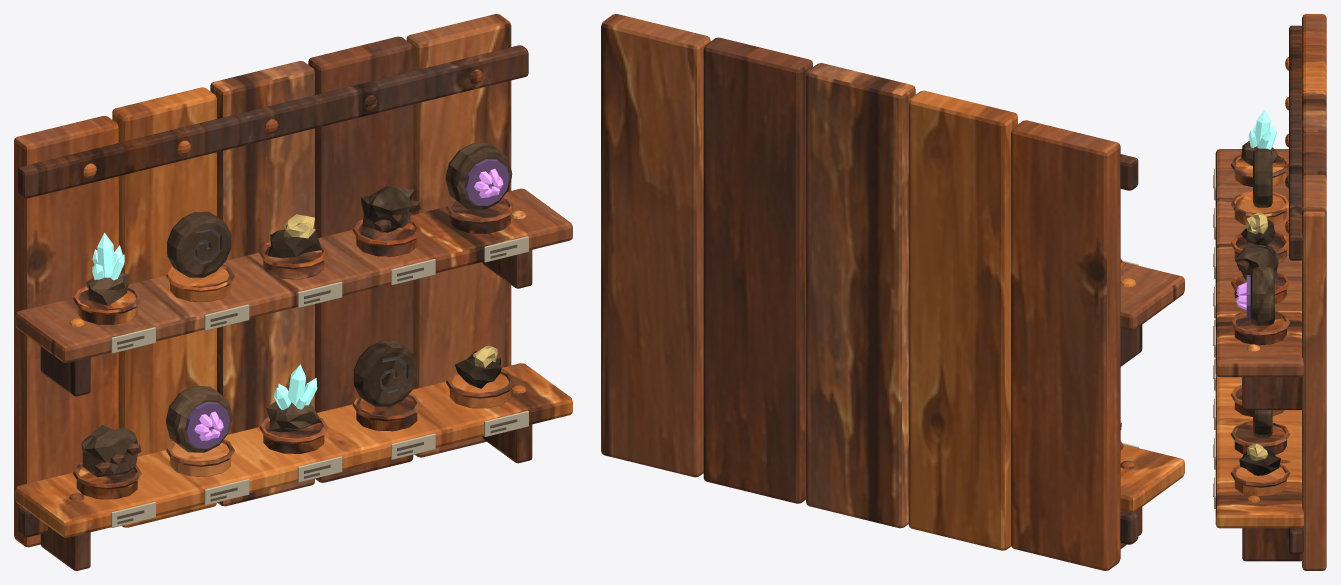
The model's file is op_rock_shelf.glb.
3 views of the same model, side by side, from view 1: azimuth 30°, elevation 25°; view 2: azimuth 150°, elevation 25°; view 3: azimuth 270°, elevation 25° (orthographic). The views are drawn at different scales.
Visible parts, largest first — view 1: model; view 2: model; view 3: model.
Boxes of the visible parts, x1=… form: model: x1=14, y1=14, x2=572, y2=570; model: x1=601, y1=14, x2=1184, y2=570; model: x1=1213, y1=14, x2=1326, y2=570.
Size of the model in its own units: 1.04 by 0.8142 by 0.231.
28 materials, 21 textured.
